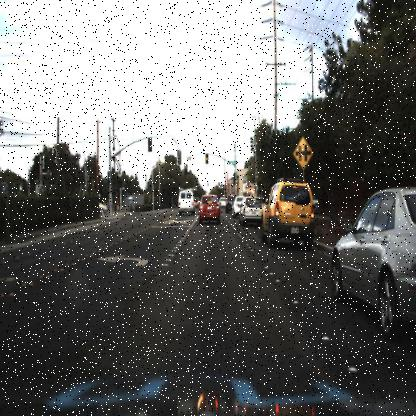car: (327, 186, 415, 338), (258, 176, 318, 247), (191, 186, 225, 227), (240, 191, 262, 231), (175, 186, 192, 216), (232, 192, 244, 222), (226, 193, 237, 216)
trafficLight: (203, 150, 209, 171), (183, 162, 189, 178)
